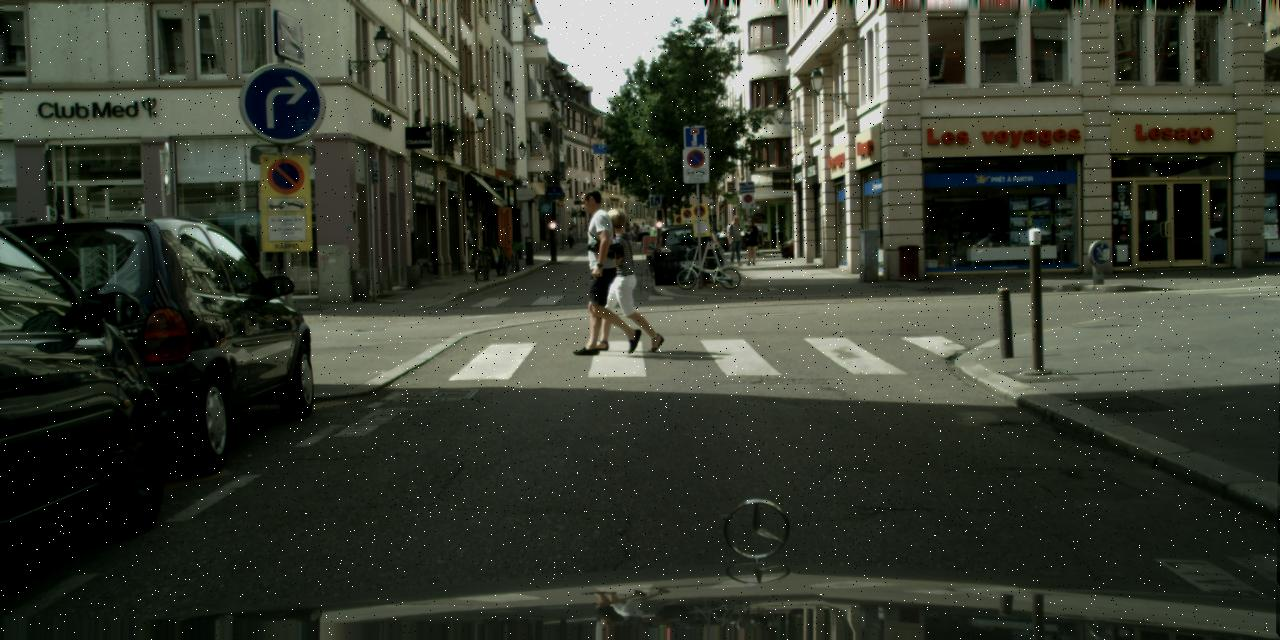ped: (566, 186, 634, 352), (594, 208, 652, 350), (726, 214, 746, 266), (741, 217, 760, 265), (619, 222, 635, 259), (637, 221, 648, 249), (629, 222, 639, 246), (566, 227, 574, 249), (713, 228, 726, 238), (723, 246, 728, 251)
